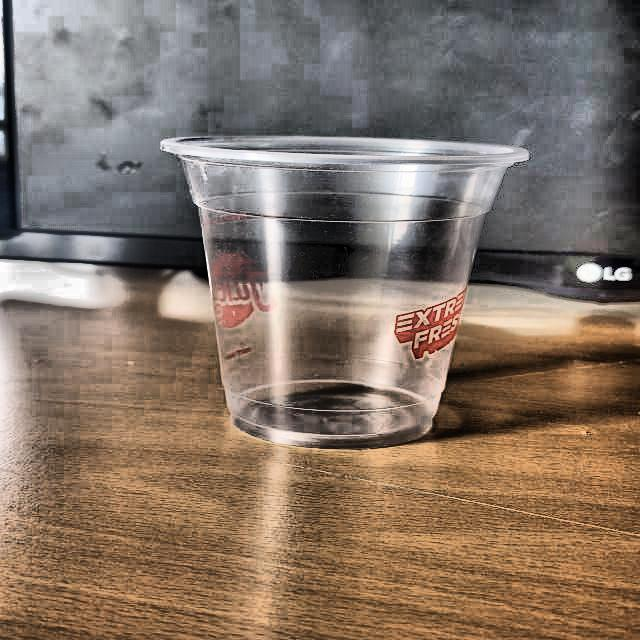plastic cup: (158, 130, 534, 450)
